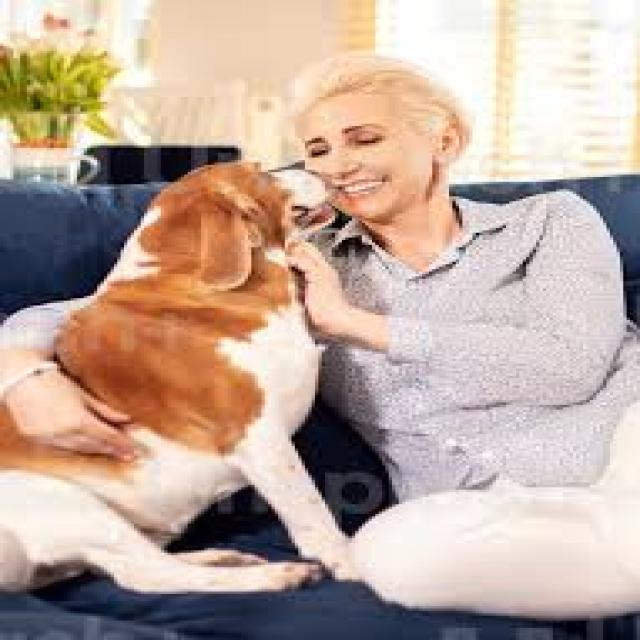Dog: (0, 153, 362, 602)
